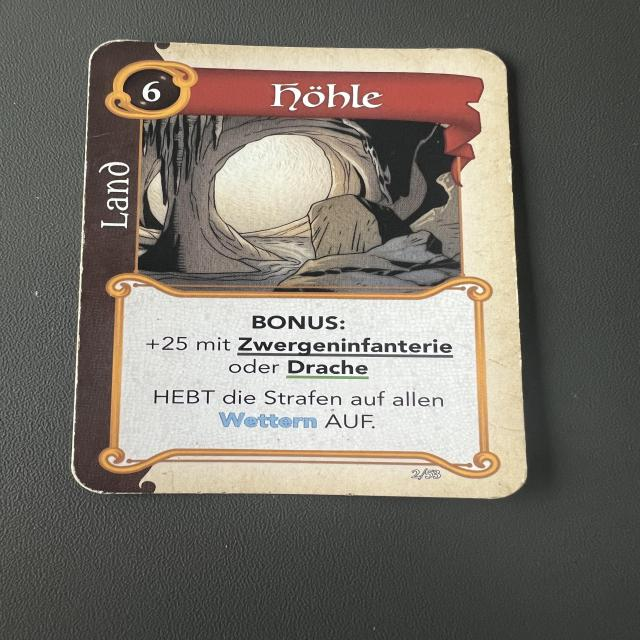Underground Caverns: (61, 34, 531, 498)
